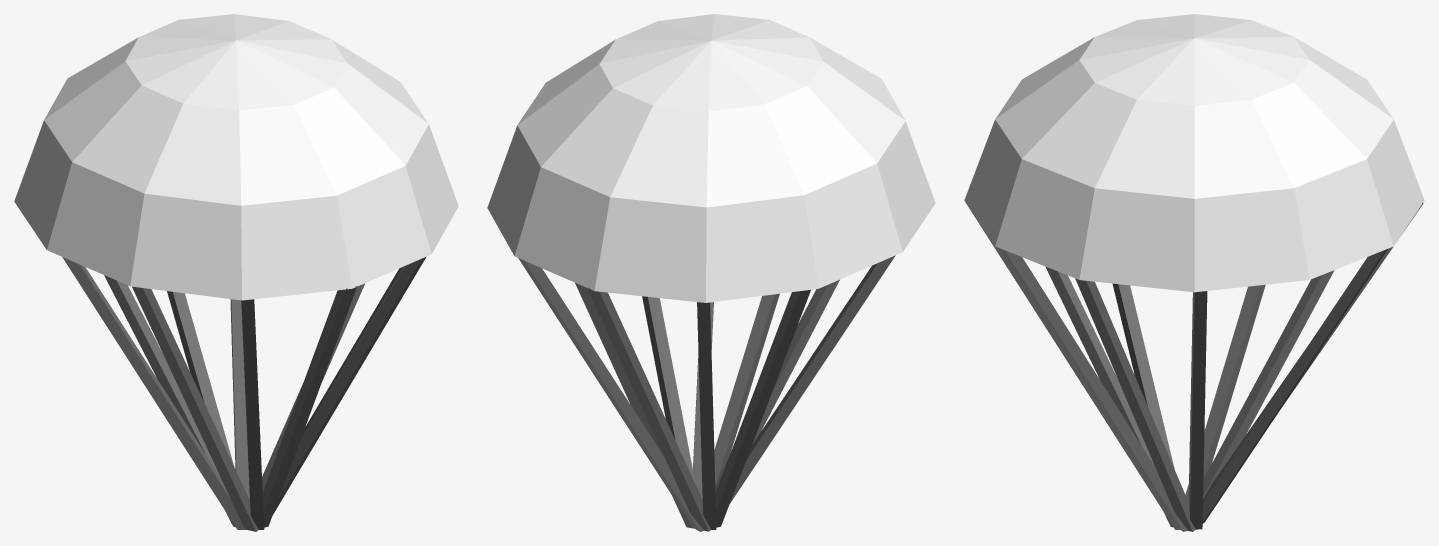
The model's file is Parachute.dae.
3 renders of one model, left to right at view 1: azimuth 30°, elevation 25°; view 2: azimuth 150°, elevation 25°; view 3: azimuth 270°, elevation 25°, orthographic.
Parts seen in each view (by area): view 1: Parachute (×2), cube; view 2: Parachute (×2), cube; view 3: Parachute (×2), cube.
Part boxes in pixels (box(x1,y1,x2,y2)): Parachute (×2): box(14, 14, 458, 300); cube: box(62, 256, 426, 531); Parachute (×2): box(487, 14, 935, 302); cube: box(518, 255, 895, 531); Parachute (×2): box(964, 14, 1424, 292); cube: box(965, 202, 1423, 531).
Bounding box in the file's own units: 2.12 × 2.59 × 2.25.
Materials: 1 (1 with a texture image).
